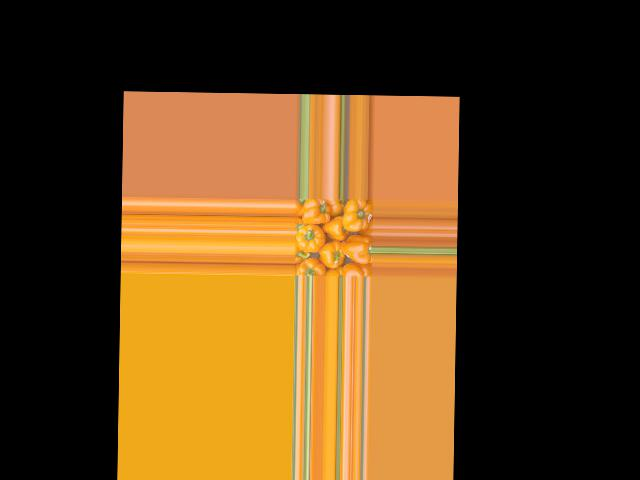bell_pepper: (341, 263, 373, 276)
